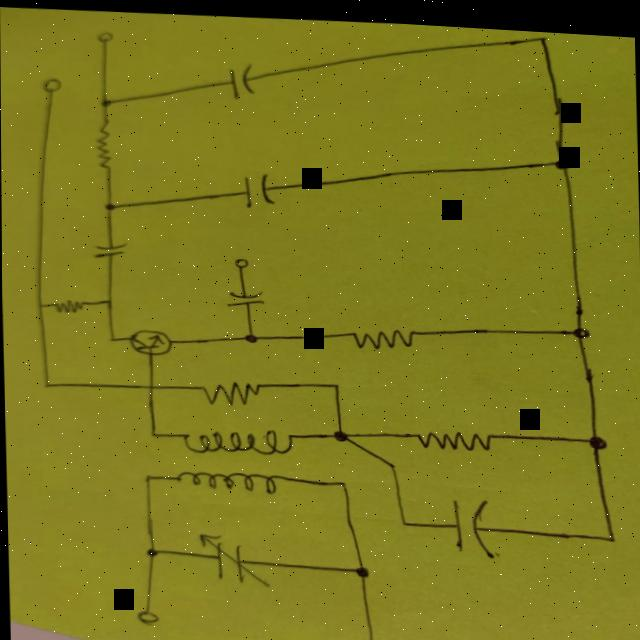capacitor: (197, 530, 262, 581), (449, 491, 489, 548), (237, 168, 274, 205), (225, 59, 255, 96), (228, 286, 262, 304), (93, 241, 123, 256)
junction: (323, 420, 354, 440), (581, 425, 606, 443), (563, 318, 589, 333), (549, 149, 571, 164), (349, 560, 369, 574), (95, 94, 116, 107), (239, 327, 259, 340), (100, 200, 120, 210), (143, 543, 161, 554), (380, 455, 399, 465), (325, 376, 344, 386), (331, 473, 347, 483), (397, 512, 412, 522), (100, 294, 114, 303), (535, 27, 548, 36), (603, 527, 617, 535), (143, 380, 156, 388), (31, 300, 44, 308), (141, 470, 153, 478), (107, 333, 117, 340), (42, 380, 51, 386), (147, 428, 156, 434)
resistor: (405, 422, 493, 448), (195, 377, 263, 405), (346, 321, 415, 346), (89, 115, 116, 172), (47, 295, 89, 314)
terminal: (132, 606, 158, 621), (228, 252, 250, 267), (39, 78, 60, 93), (94, 28, 115, 43), (355, 635, 383, 640)
transformer: (169, 421, 298, 493)
transistor: (126, 325, 172, 355)
